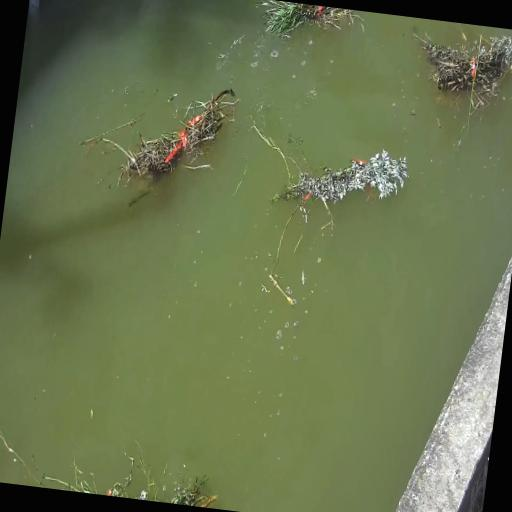twig: (110, 76, 250, 202), (381, 15, 512, 128), (274, 142, 422, 239), (46, 444, 218, 508), (252, 0, 374, 80)
